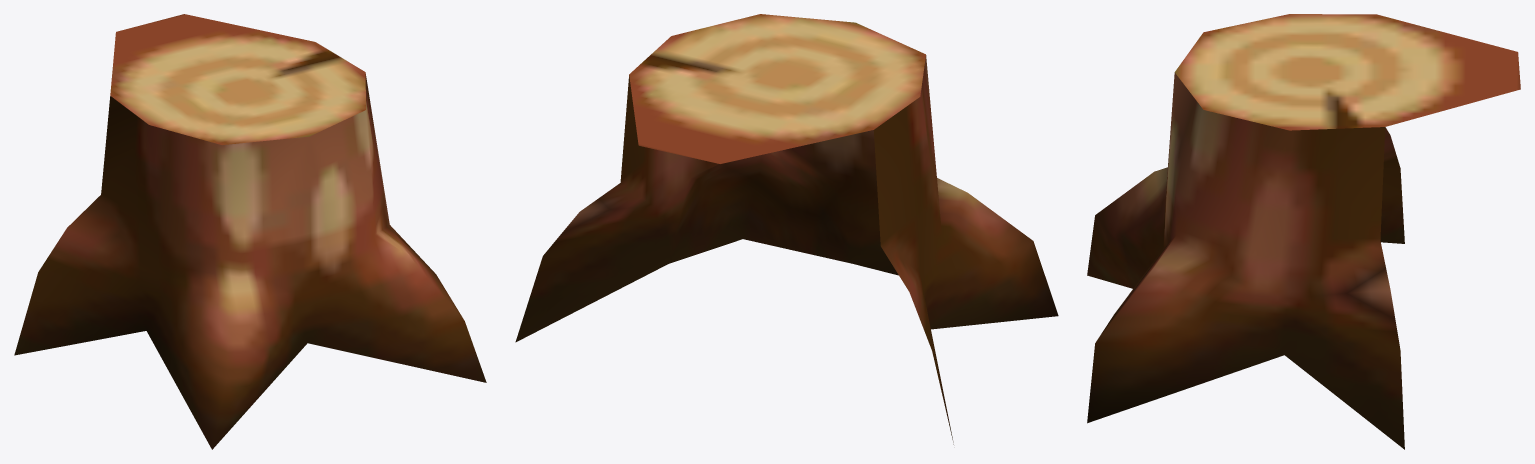
File: fg_treeB_4_b.dae
3 views of the same model, side by side, from view 1: azimuth 30°, elevation 25°; view 2: azimuth 150°, elevation 25°; view 3: azimuth 270°, elevation 25° (orthographic). The views are drawn at different scales.
Visible parts, largest first — view 1: fg_treeB_4_b; view 2: fg_treeB_4_b; view 3: fg_treeB_4_b.
Part boxes in pixels (<box>): fg_treeB_4_b: <box>14,14,486,449</box>; fg_treeB_4_b: <box>515,14,1058,444</box>; fg_treeB_4_b: <box>1087,14,1520,449</box>.
Bounding box in the file's own units: 31.18 × 19.55 × 27.75.
1 material, 1 textured.
